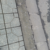others: (16, 1, 47, 50)
